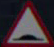Speed Breaker ahead: (7, 2, 44, 40)
